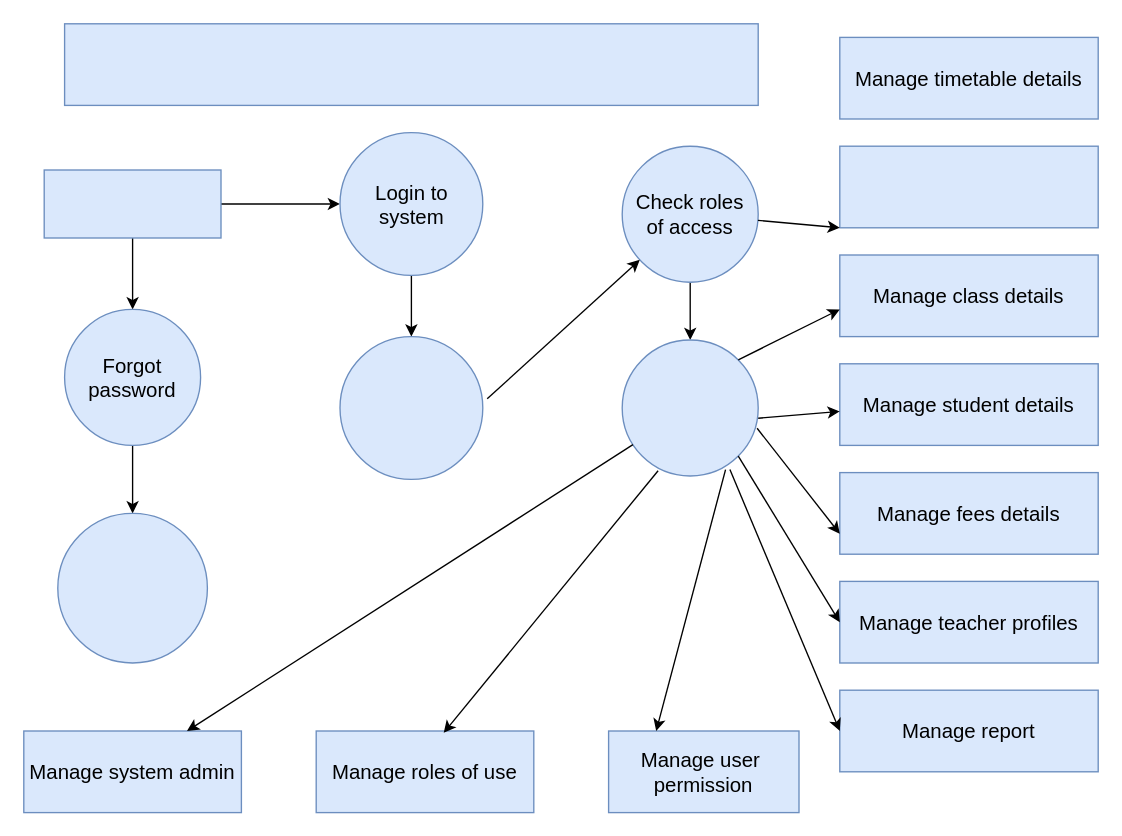
This 1122x836 diagram has some shape labels left out. Each missing label, with the box of its shape:
Admin: (43, 169, 221, 238)
Check credentials: (339, 335, 483, 479)
Maange attendance details: (838, 145, 1098, 228)
Manage modules: (621, 339, 758, 476)
Send Email to user: (56, 512, 207, 663)
Student information system: (63, 22, 758, 105)
